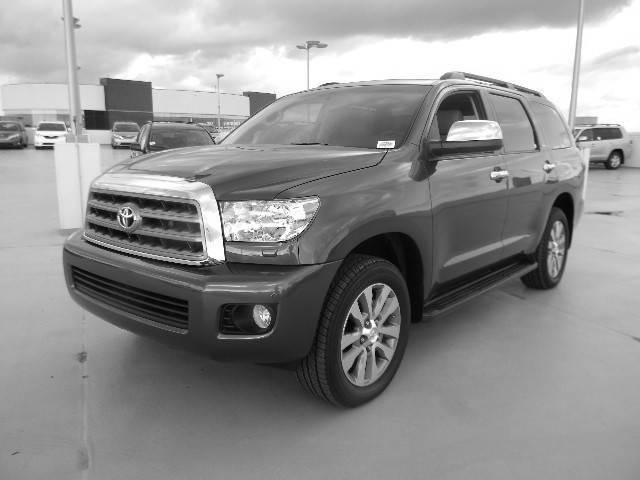car: (61, 73, 587, 405)
